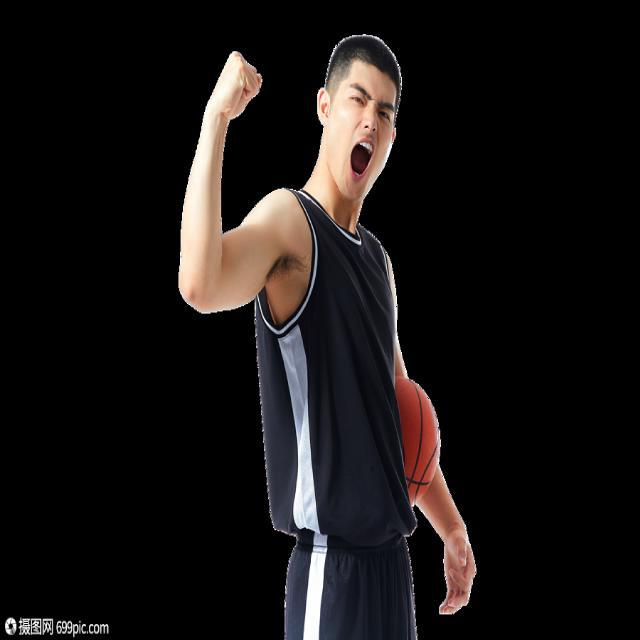rim: (389, 374, 442, 511)
